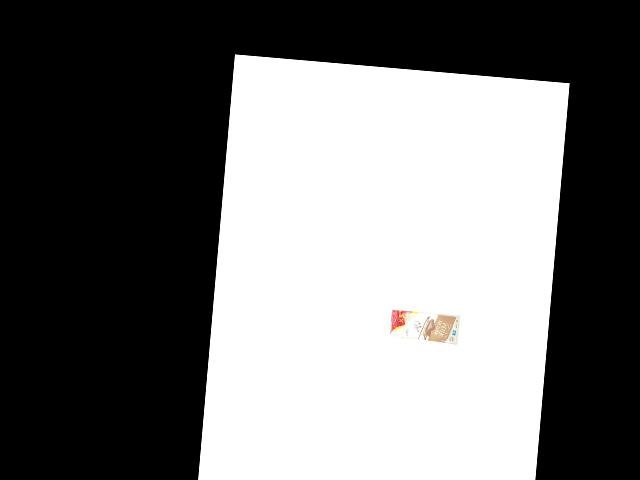chocolate: (387, 307, 458, 345)
